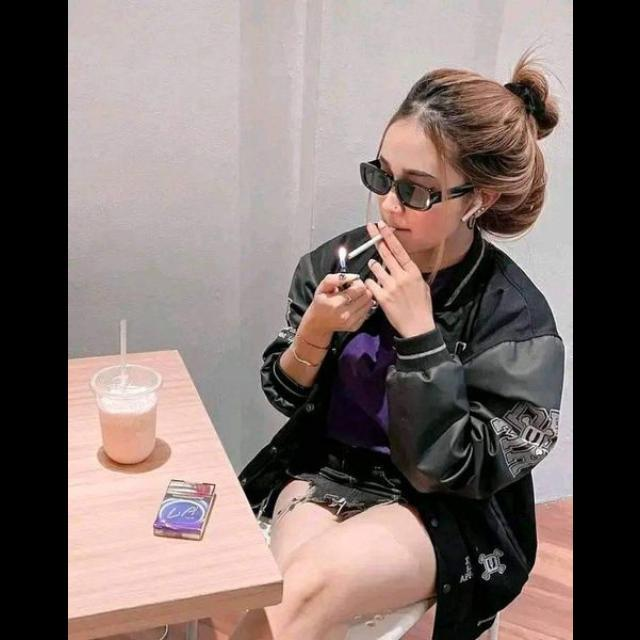rokok: (344, 232, 392, 260)
